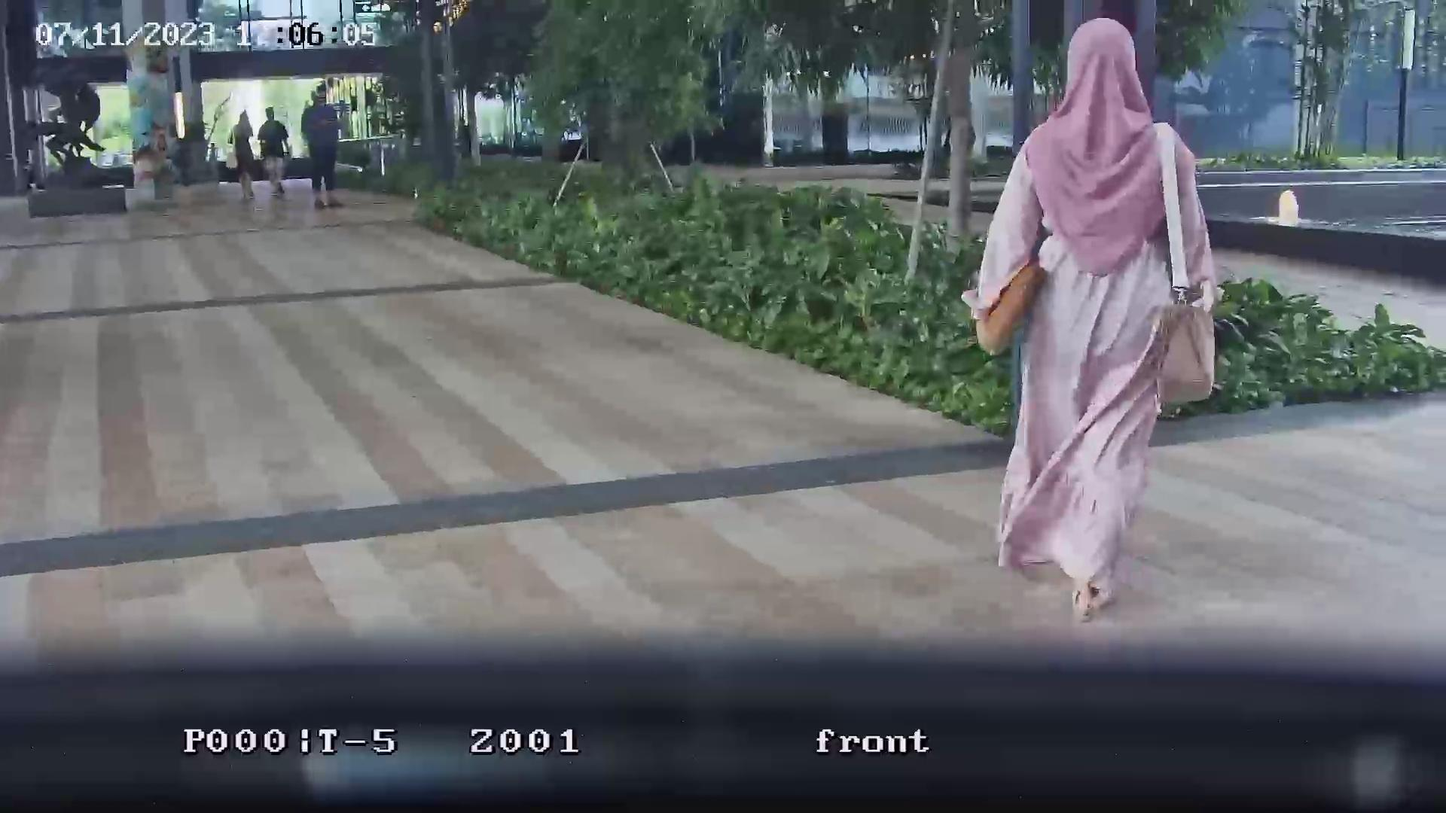person: (966, 15, 1219, 620), (301, 88, 342, 209), (256, 105, 291, 198), (230, 111, 258, 204)
